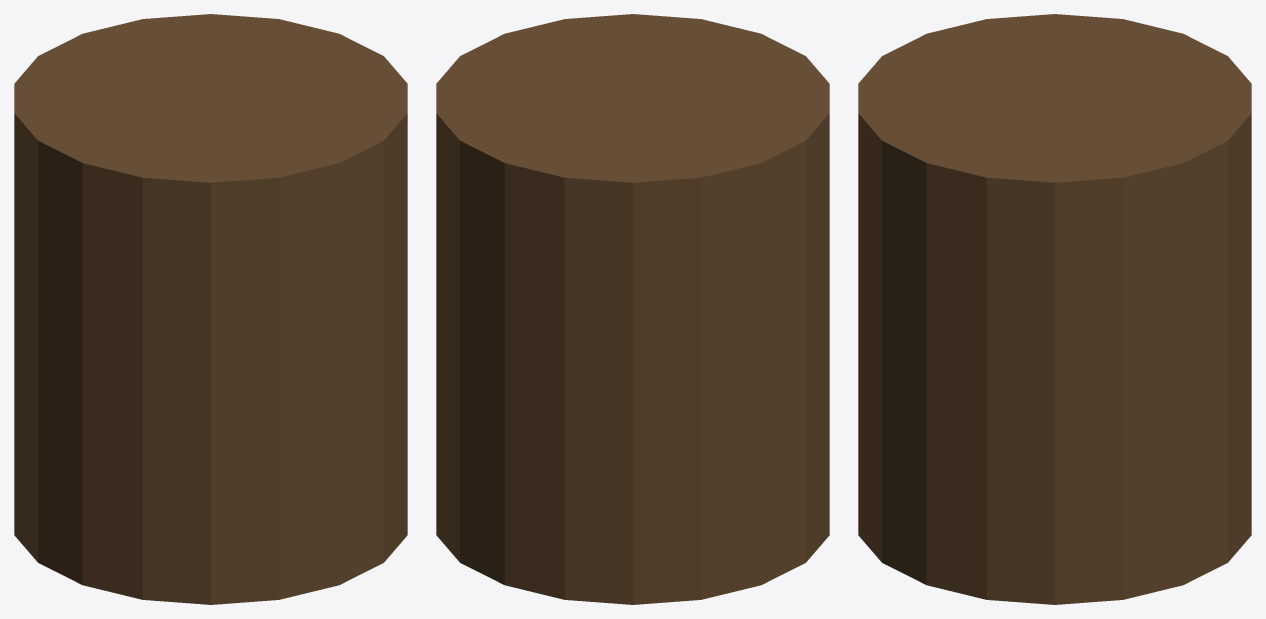
The picture shows the model from 3 angles, left to right: view 1: azimuth 30°, elevation 25°; view 2: azimuth 150°, elevation 25°; view 3: azimuth 270°, elevation 25°; orthographic projection.
Visible parts, largest first — view 1: faceted_body; view 2: faceted_body; view 3: faceted_body.
Part boxes in pixels (x1=…): faceted_body: x1=14, y1=14, x2=407, y2=604; faceted_body: x1=436, y1=14, x2=829, y2=604; faceted_body: x1=858, y1=14, x2=1251, y2=604.
Bounding box in the file's own units: 0.1286 × 0.15 × 0.1267.
